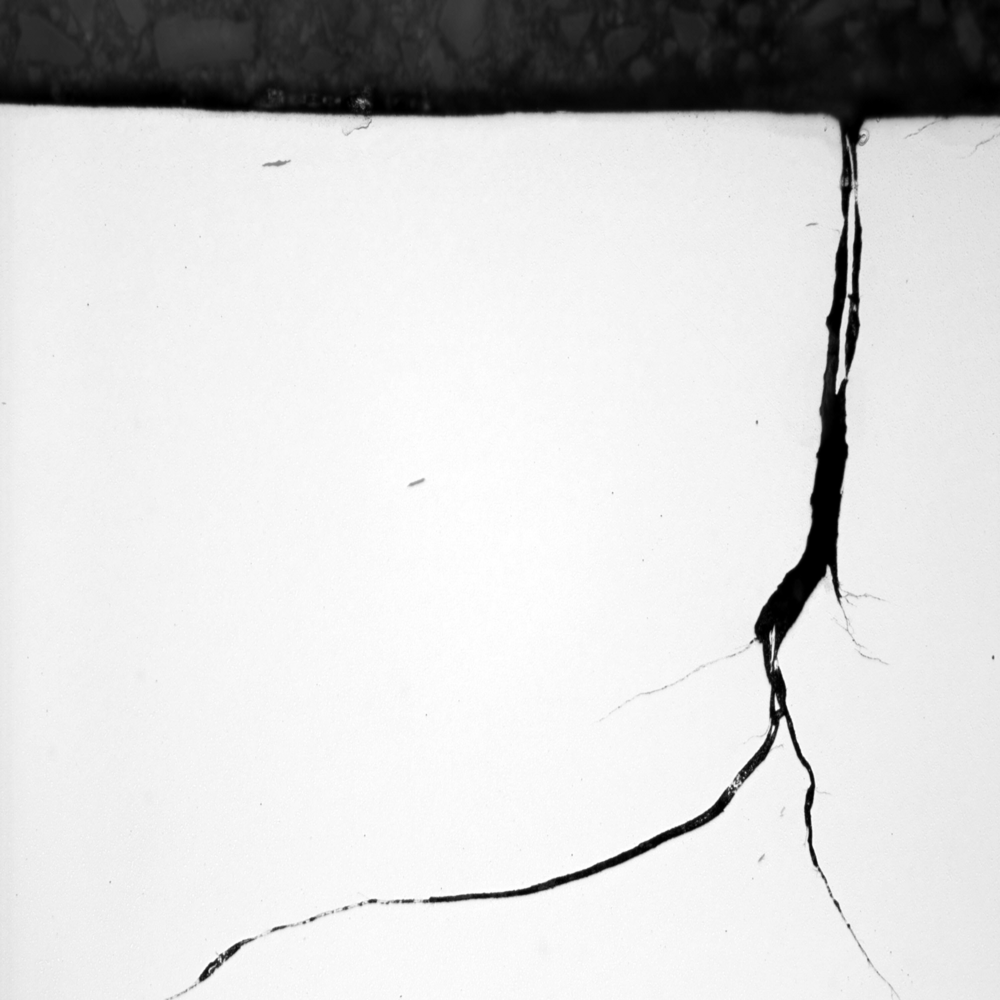crack: (162, 108, 912, 992)
